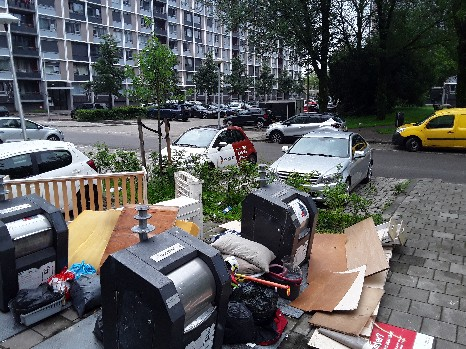Container: (114, 232, 227, 345), (242, 185, 315, 260), (1, 206, 62, 282)
Papier: (325, 226, 382, 321), (75, 205, 110, 276)
Rest: (6, 181, 150, 206), (239, 273, 296, 335), (208, 214, 265, 275), (313, 326, 411, 349), (159, 194, 207, 239), (230, 294, 267, 345), (62, 266, 101, 312), (19, 296, 71, 321), (176, 173, 206, 196)
Voertuig: (282, 127, 364, 202), (184, 126, 251, 177), (390, 115, 466, 159), (21, 144, 99, 182), (2, 114, 68, 143), (271, 113, 340, 137), (229, 104, 276, 130)
